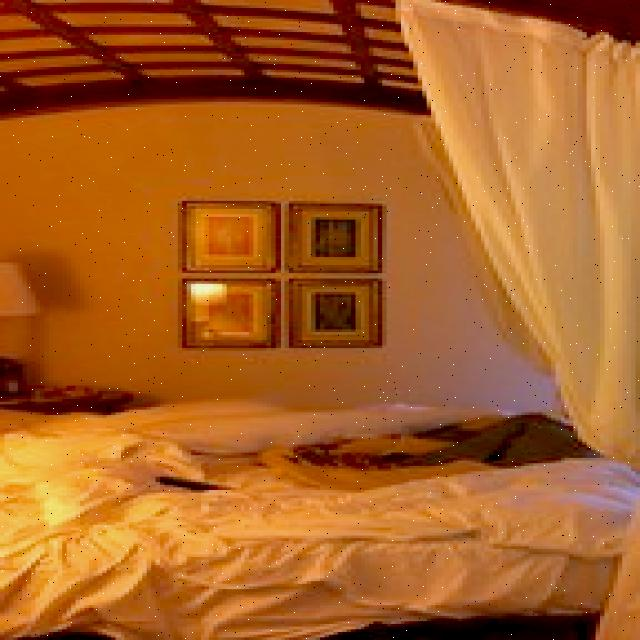bed: (7, 379, 640, 607)
